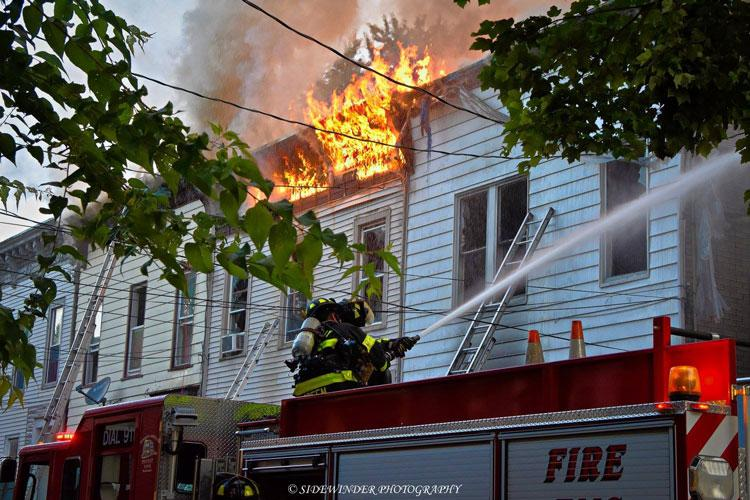Fire: (243, 43, 454, 200)
